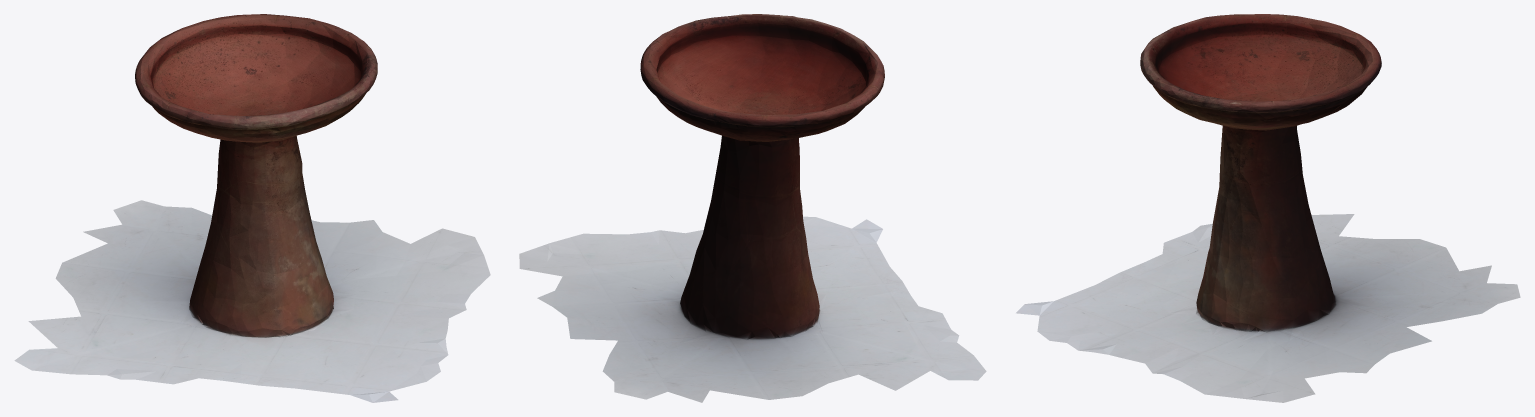
File: 3-vasija5final.glb
The picture shows the model from 3 angles, left to right: view 1: azimuth 30°, elevation 25°; view 2: azimuth 150°, elevation 25°; view 3: azimuth 270°, elevation 25°; orthographic projection.
Visible parts, largest first — view 1: Mesh_2.004, Mesh_0.004, Mesh_1.004; view 2: Mesh_2.004, Mesh_1.004, Mesh_0.004; view 3: Mesh_2.004, Mesh_0.004, Mesh_1.004.
Part boxes in pixels (box(x1,y1,x2,y2)): Mesh_2.004: box(14, 200, 490, 384); Mesh_0.004: box(135, 49, 448, 402); Mesh_1.004: box(137, 14, 371, 286); Mesh_2.004: box(519, 229, 986, 402); Mesh_1.004: box(640, 26, 829, 308); Mesh_0.004: box(680, 14, 918, 317); Mesh_2.004: box(1109, 214, 1520, 402); Mesh_0.004: box(1016, 14, 1339, 354); Mesh_1.004: box(1225, 23, 1381, 279).
Bounding box in the file's own units: 3.58 × 1.9 × 3.44.
Materials: 3 (3 with a texture image).
